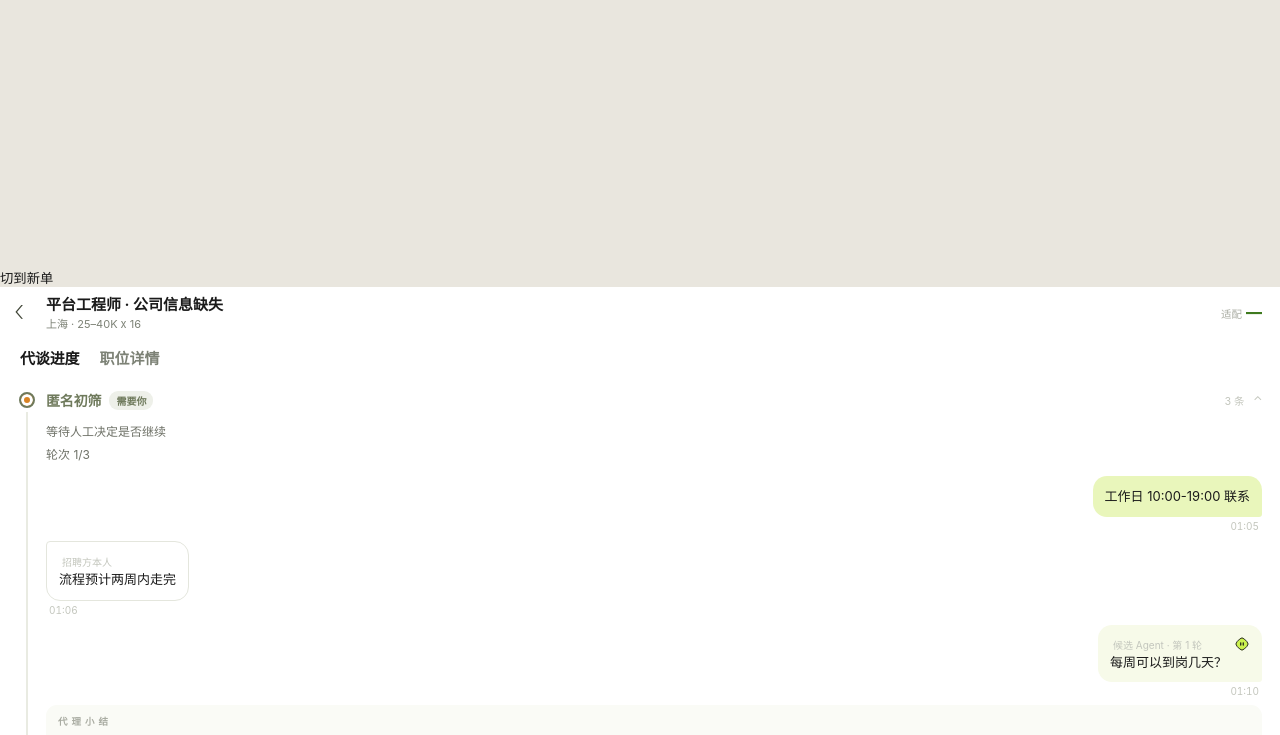
Test: MatchCase详情 · 直达刷新与隐私（Backend） › 正常换 Case 不沿用折叠状态：上一单手动收起的当前段，在新单恢复默认展开
(page scrolled)
Expected: the text "每周可以到岗几天？" is shown, top-left (1110, 652), bottom-right (1227, 674)
Click the button "匿名初筛 需要你 3 条 ⌄" at (74, 400), box top-left (46, 388), bottom-right (1262, 412)
(page scrolled)
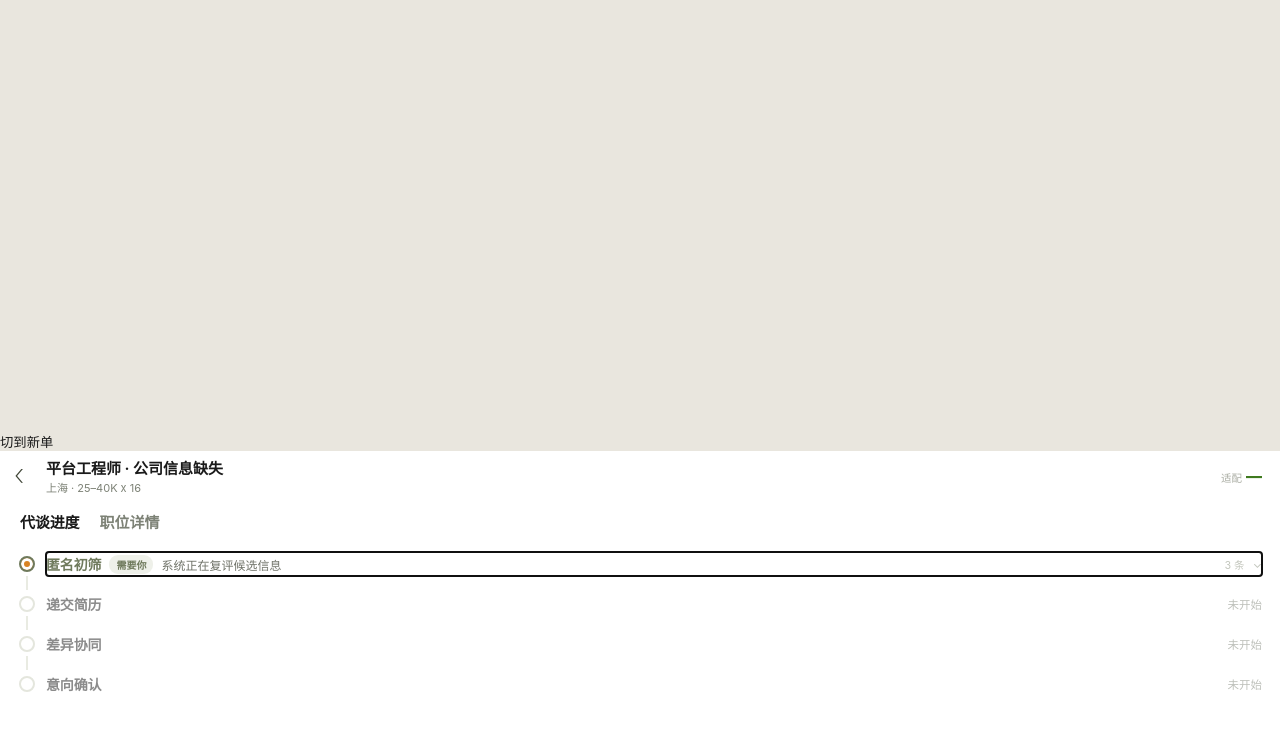
Now the text "每周可以到岗几天？" is gone
Click the button "切到新单" at (27, 442), box top-left (0, 432), bottom-right (53, 451)
(page scrolled)
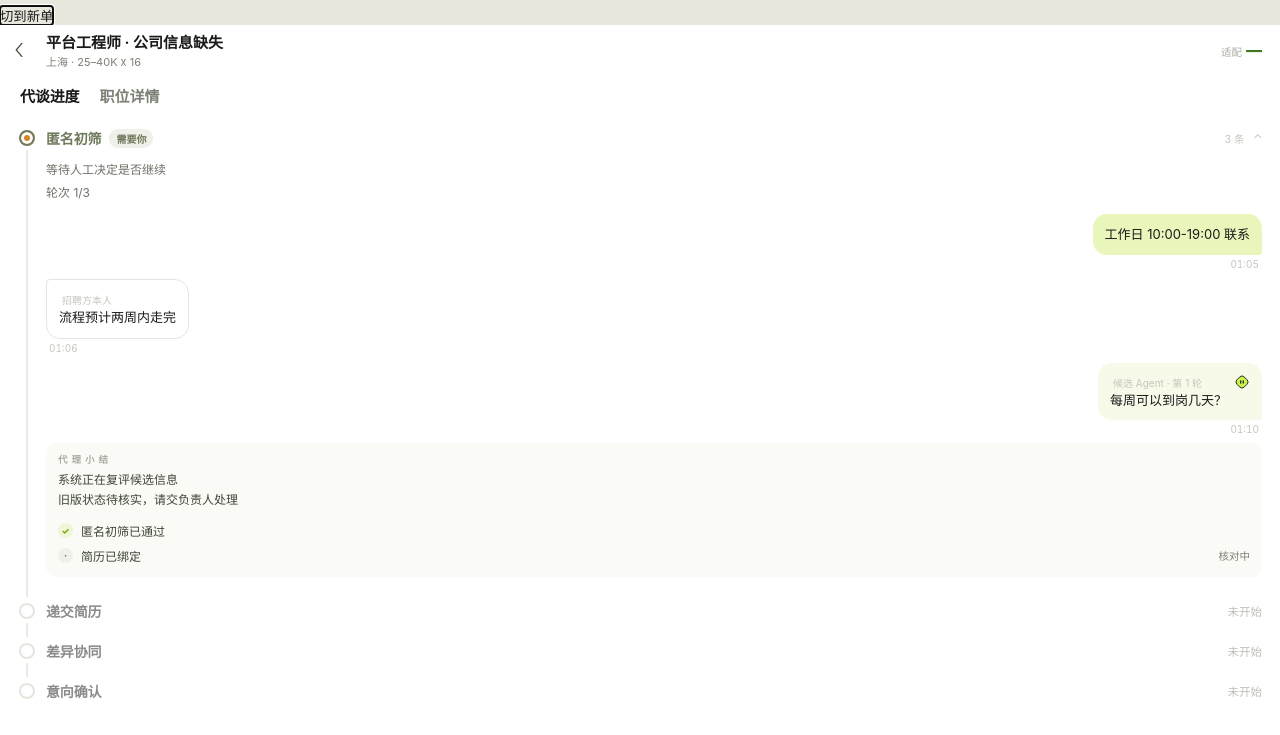
Now the text "每周可以到岗几天？" is shown, box top-left (1110, 390), bottom-right (1227, 412)
